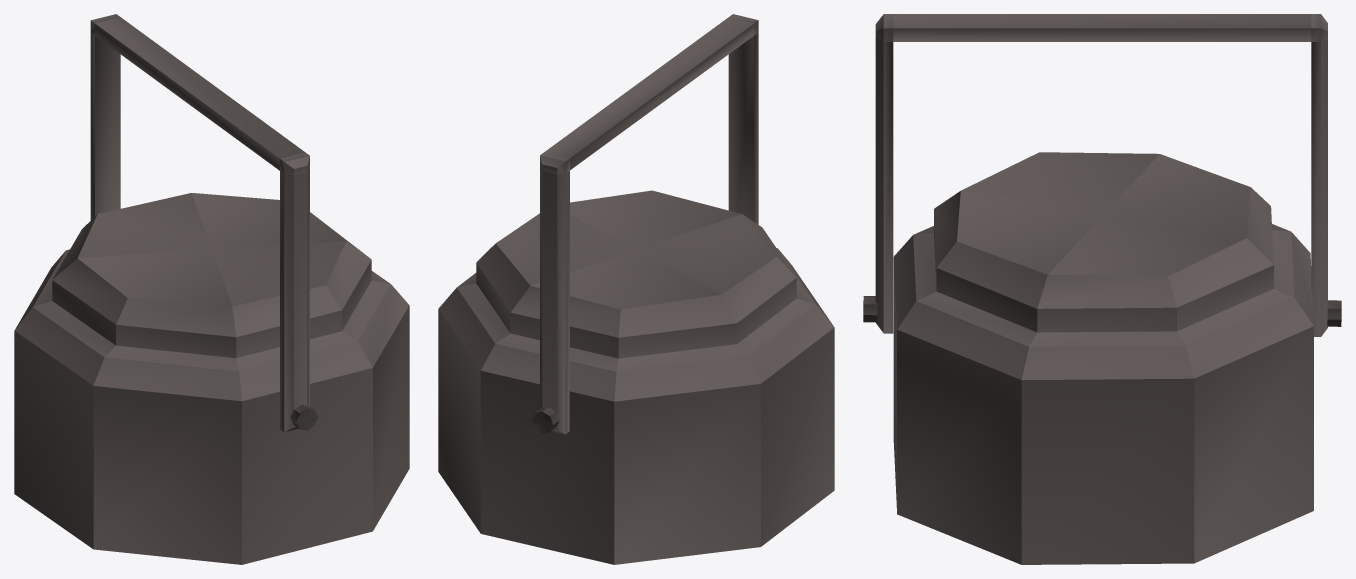
Rendered from Saucepan.fbx.
3 views of the same model, side by side, from view 1: azimuth 30°, elevation 25°; view 2: azimuth 150°, elevation 25°; view 3: azimuth 270°, elevation 25° (orthographic). The views are drawn at different scales.
Visible parts, largest first — view 1: Saucepan; view 2: Saucepan; view 3: Saucepan.
Boxes of the visible parts, bbox=[...] form: Saucepan: bbox=[14, 14, 409, 564]; Saucepan: bbox=[438, 14, 834, 564]; Saucepan: bbox=[863, 14, 1341, 564].
Bounding box in the file's own units: 25.46 × 29.97 × 28.98.
